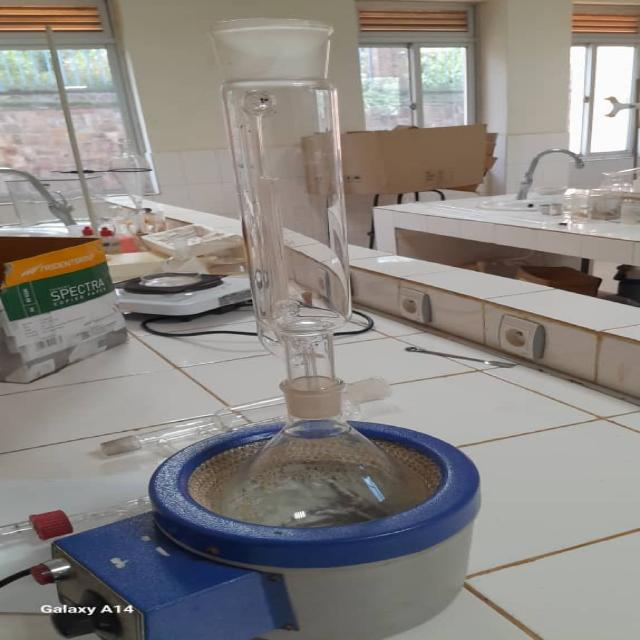Soxhlet: (142, 16, 437, 520)
